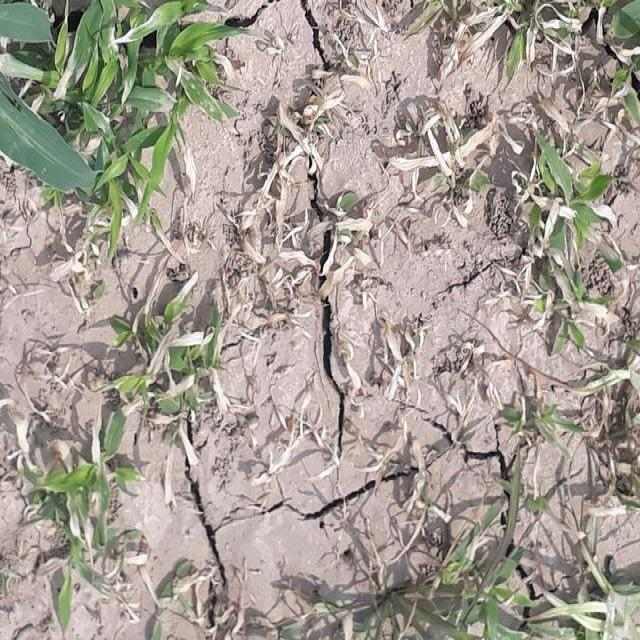weed: (31, 281, 228, 600), (0, 0, 229, 213), (333, 506, 640, 640), (503, 100, 612, 339)
